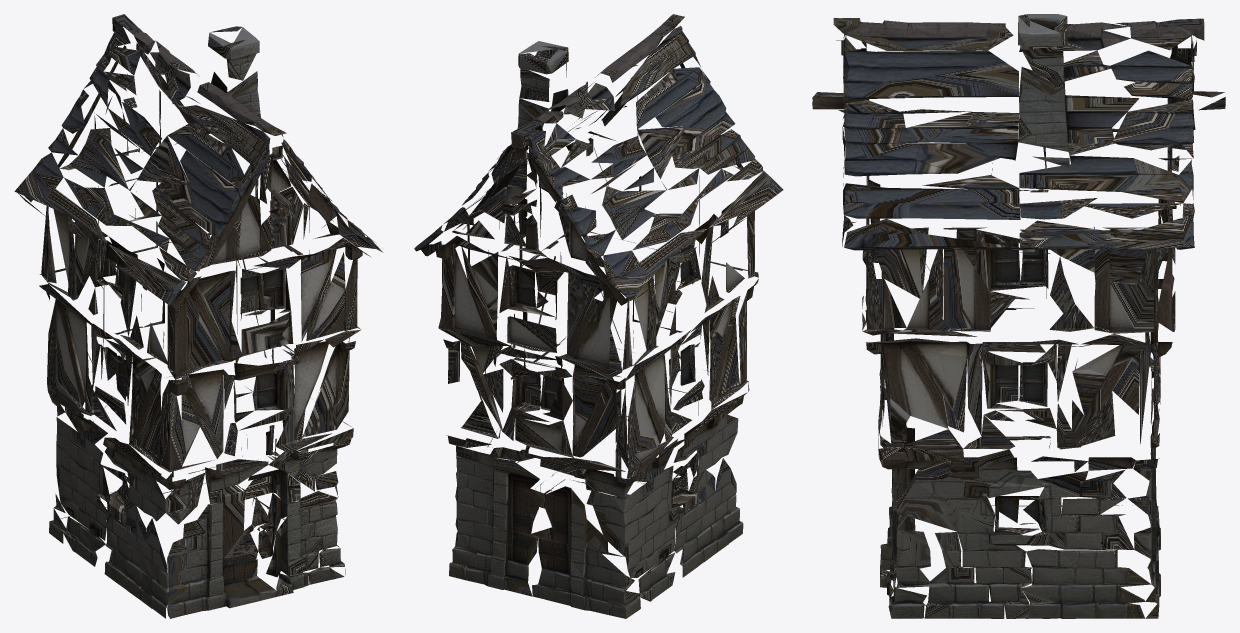
File: bld_house_npc_h_a_LOD1.glb
The picture shows the model from 3 angles, left to right: view 1: azimuth 30°, elevation 25°; view 2: azimuth 150°, elevation 25°; view 3: azimuth 270°, elevation 25°; orthographic projection. The views are drawn at different scales.
Parts seen in each view (by area): view 1: geometry_0; view 2: geometry_0; view 3: geometry_0.
Boxes of the visible parts, <box> form: geometry_0: <box>14,14,383,618</box>; geometry_0: <box>414,14,783,618</box>; geometry_0: <box>812,14,1225,618</box>.
Bounding box in the file's own units: 2.74 × 6 × 3.94.
Materials: 1 (1 with a texture image).
